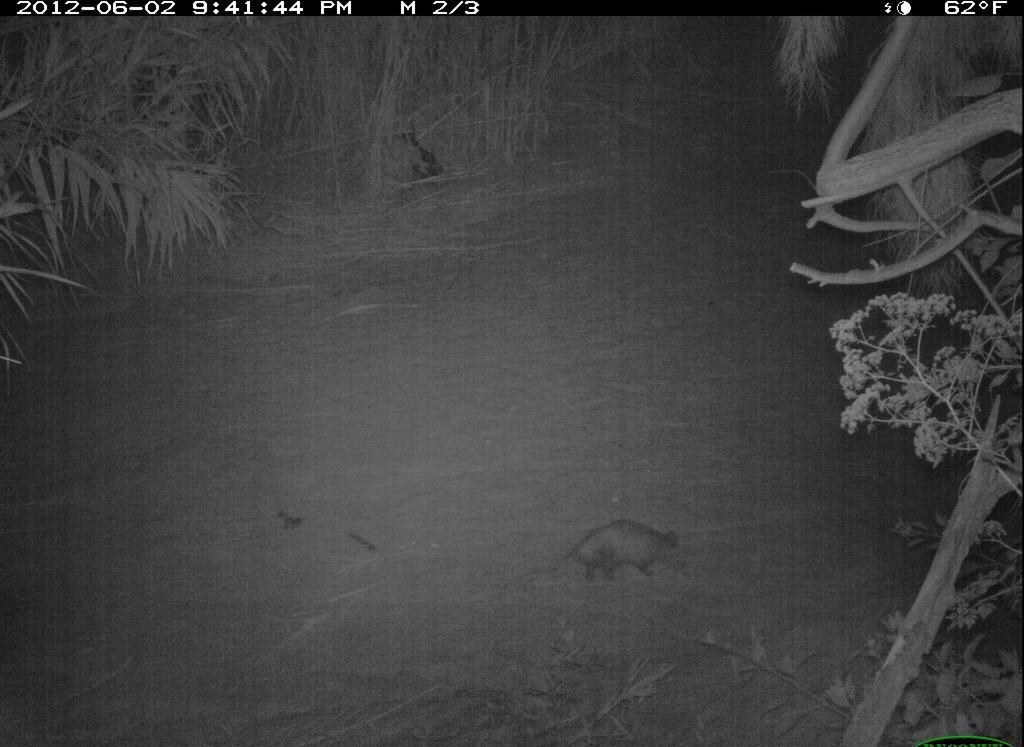opossum: (534, 506, 705, 597)
